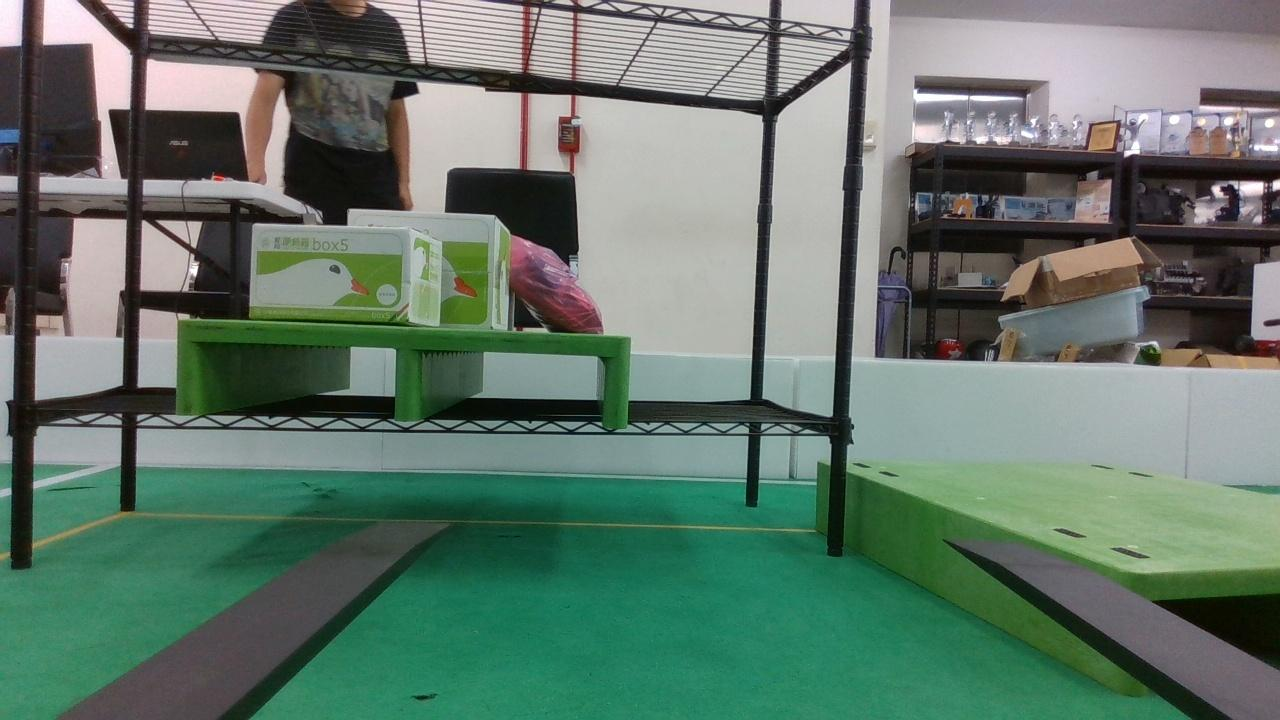Pallet: (176, 320, 630, 429)
